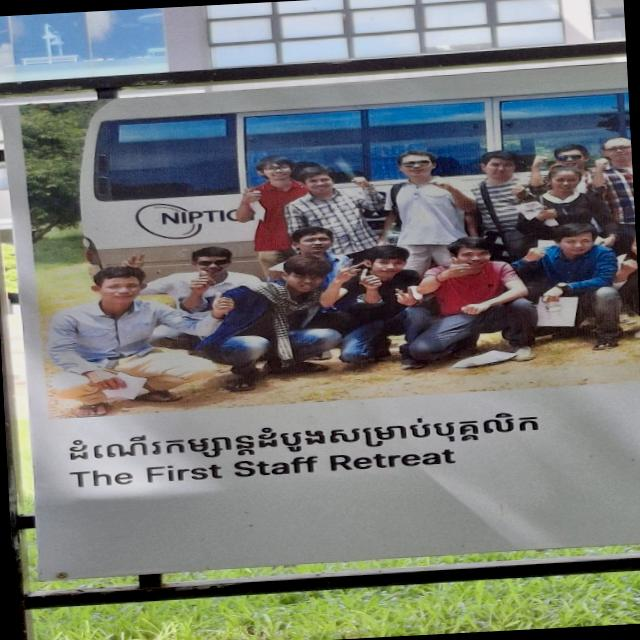Yolov11kh: (50, 402, 557, 471)
